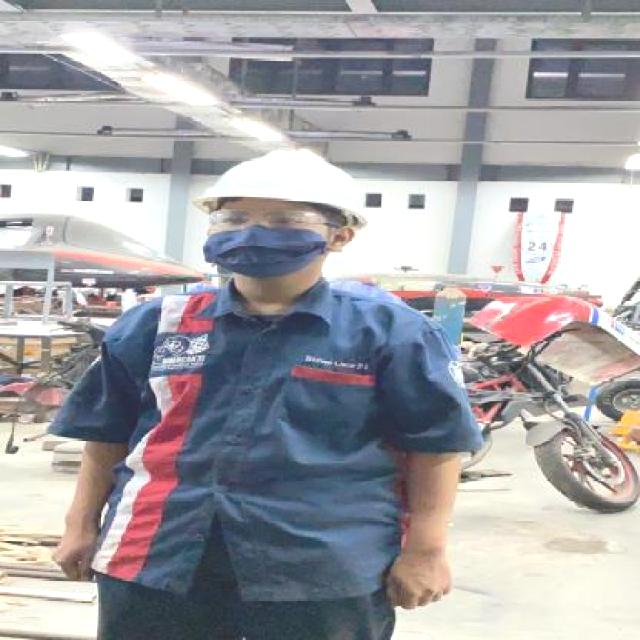helmet: (192, 142, 414, 213)
no-gloves: (393, 448, 461, 608), (49, 456, 110, 582)
no-vest: (108, 248, 402, 598)
